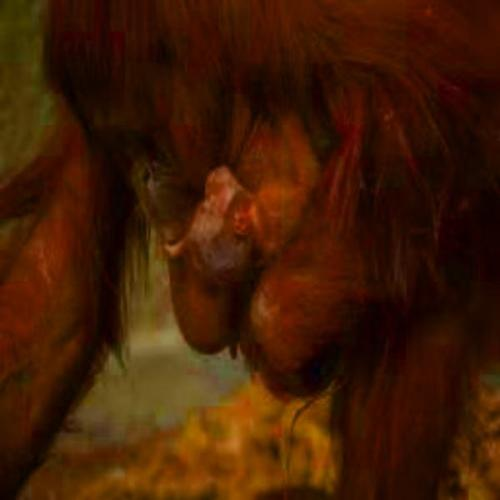orangutan-endangered: (9, 15, 478, 468), (174, 68, 326, 280)
